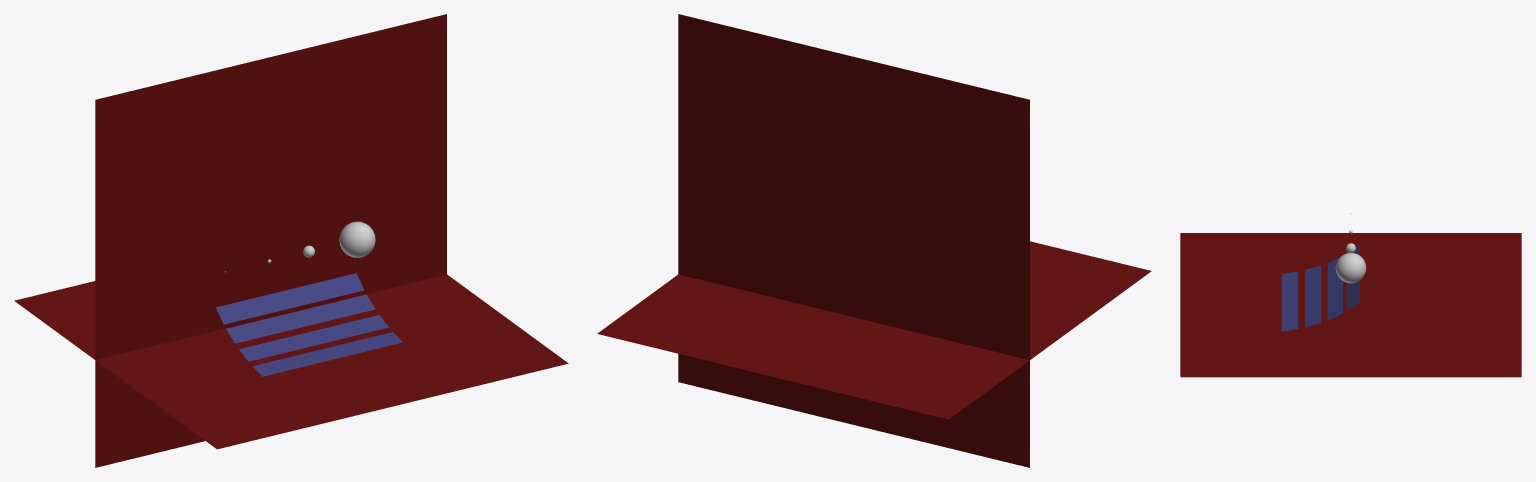
File: veach-mis.obj
The picture shows the model from 3 angles, left to right: view 1: azimuth 30°, elevation 25°; view 2: azimuth 150°, elevation 25°; view 3: azimuth 270°, elevation 25°; orthographic projection. The views are drawn at different scales.
Parts seen in each view (by area): view 1: default, plate_01, plate_02, plate_03, plate_04, l_1_23456; view 2: default; view 3: default, plate_04, plate_03, plate_02, l_1_23456, plate_01.
Boxes of the visible parts, x1,y1,x2,y2 form: default: (14,14,568,467); plate_01: (216,273,363,324); plate_02: (226,294,375,343); plate_03: (239,315,388,361); plate_04: (253,332,402,376); l_1_23456: (339,221,375,257); default: (597,14,1151,467); default: (1180,233,1521,377); plate_04: (1281,271,1298,331); plate_03: (1305,265,1321,327); plate_02: (1327,257,1342,320); l_1_23456: (1335,252,1366,283); plate_01: (1346,244,1359,311).
Size of the model in its own units: 20 by 20 by 20.
